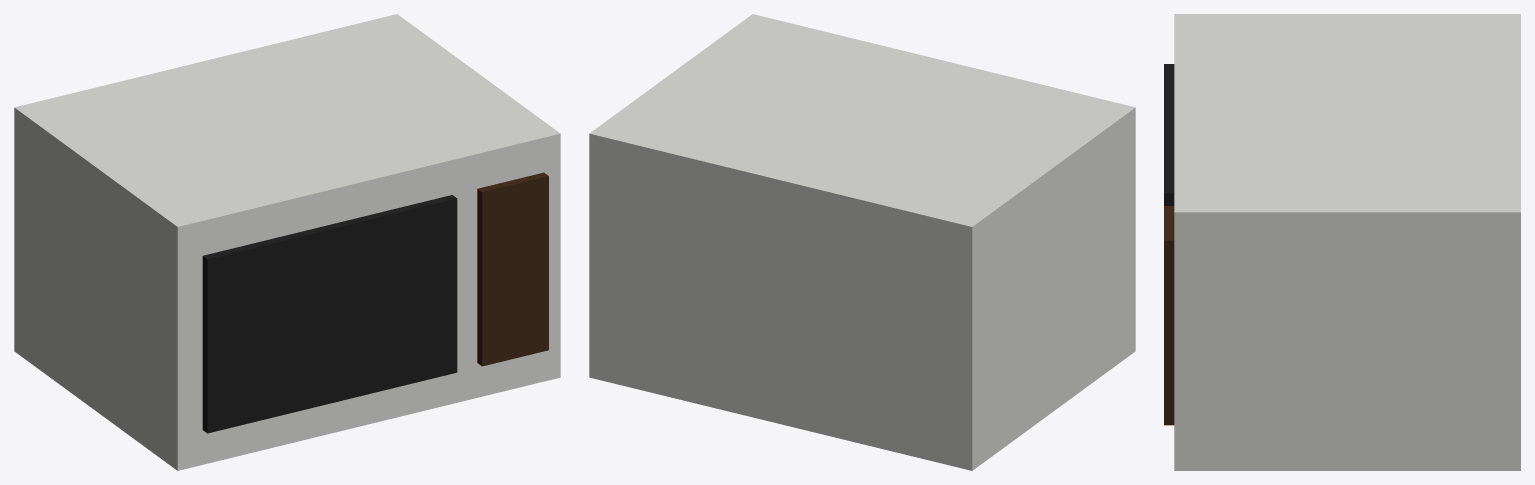
File: microwave.glb
The picture shows the model from 3 angles, left to right: view 1: azimuth 30°, elevation 25°; view 2: azimuth 150°, elevation 25°; view 3: azimuth 270°, elevation 25°; orthographic projection. The views are drawn at different scales.
Visible parts, largest first — view 1: microwave; view 2: microwave; view 3: microwave.
Part boxes in pixels (left/top/right/bottom): microwave: left=14, top=14, right=560, bottom=470; microwave: left=589, top=14, right=1135, bottom=470; microwave: left=1164, top=14, right=1520, bottom=470.
Size of the model in its own units: 0.46 by 0.28 by 0.35.
